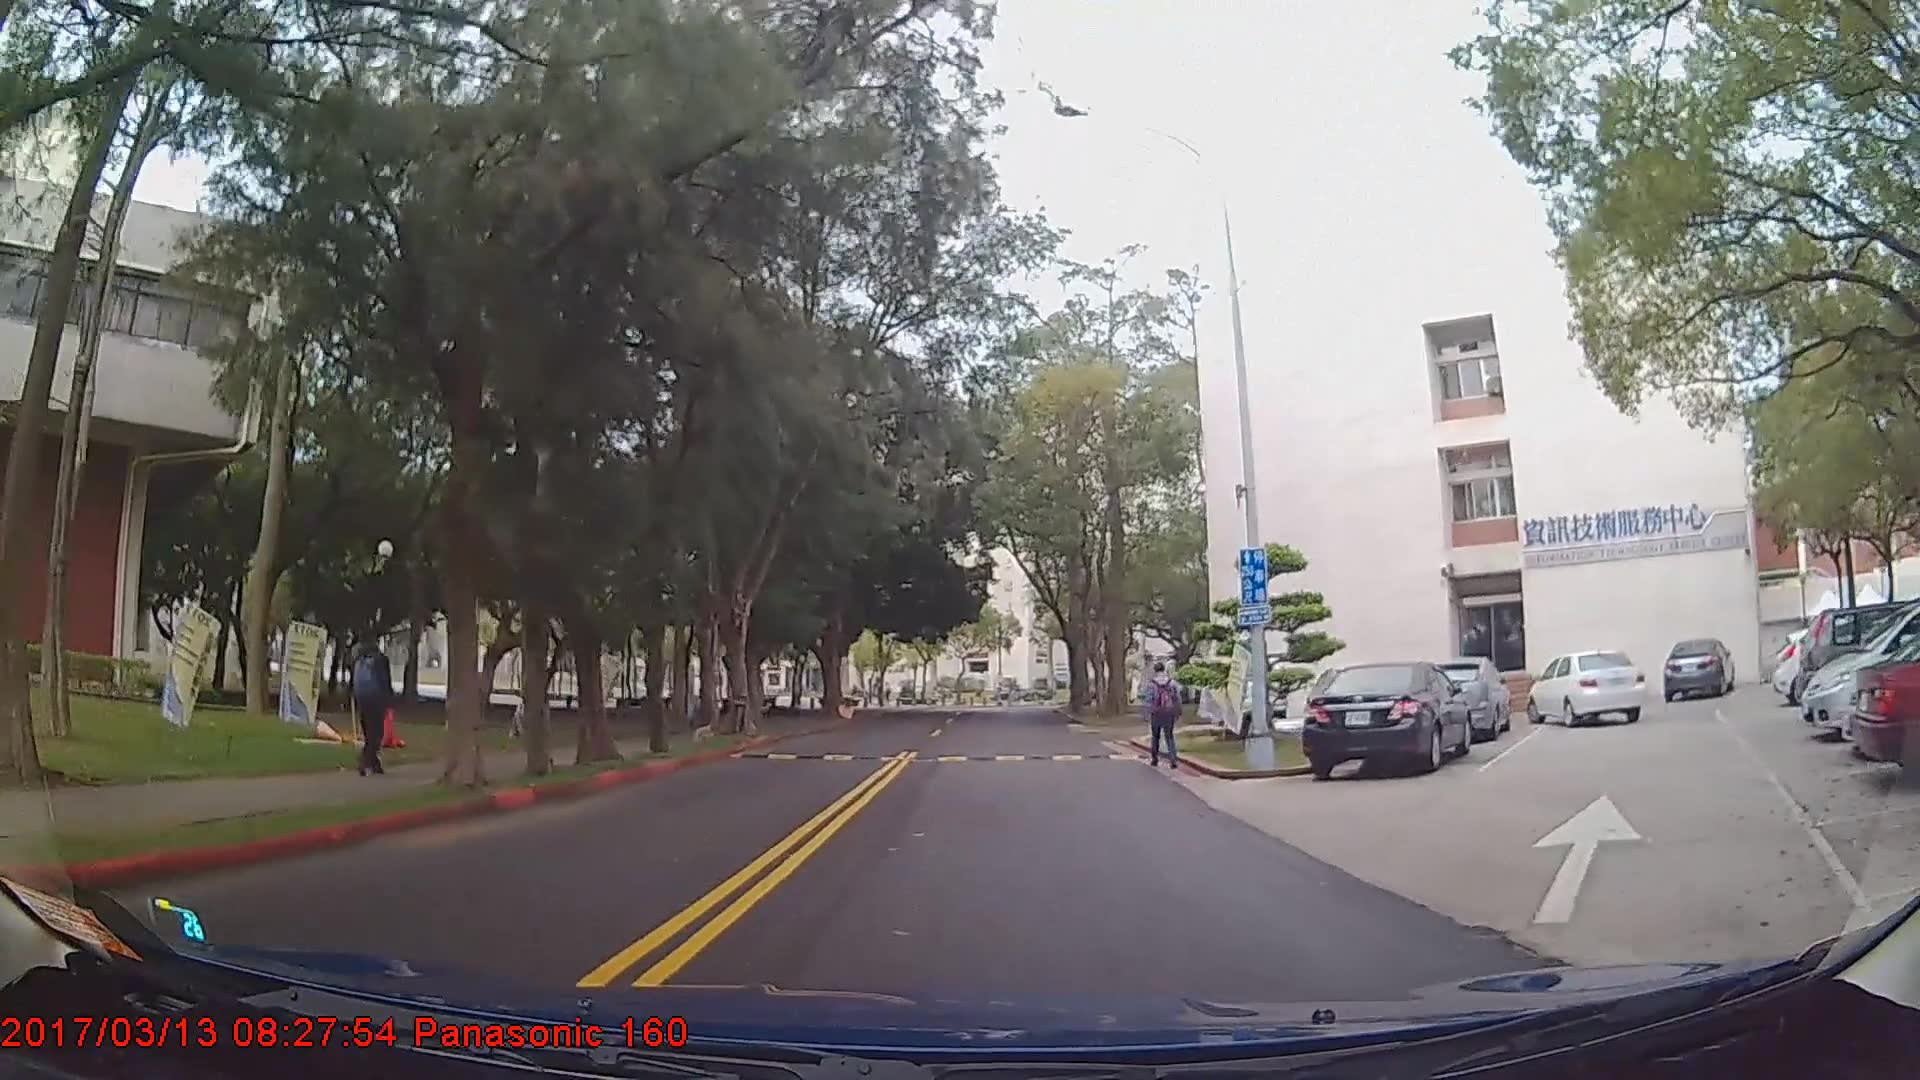pedestrian: (352, 627, 415, 784), (1148, 660, 1189, 776)
vehicle: (1301, 662, 1471, 783), (1802, 601, 1920, 739), (1799, 603, 1920, 720), (1527, 649, 1644, 728), (1413, 656, 1516, 742), (1661, 633, 1734, 700)
